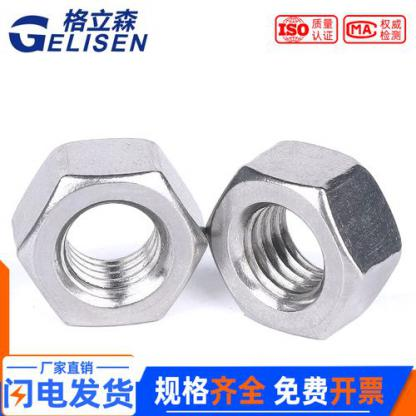FOD: (206, 135, 402, 341), (11, 135, 209, 328)
